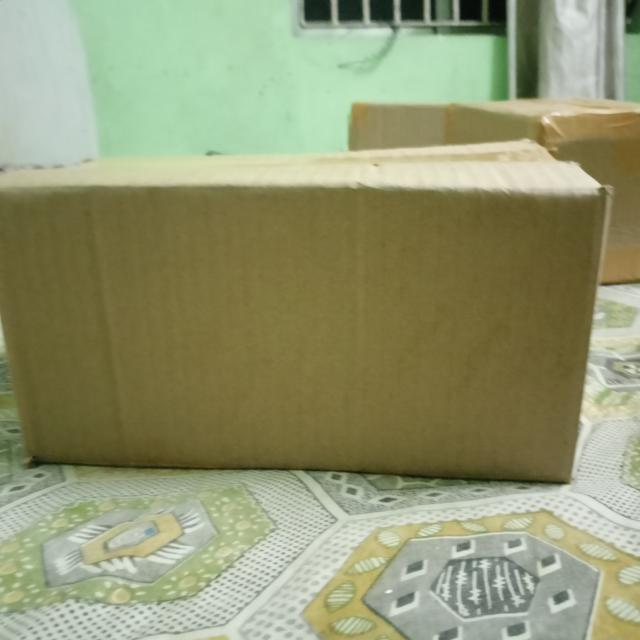box: (1, 186, 609, 486)
